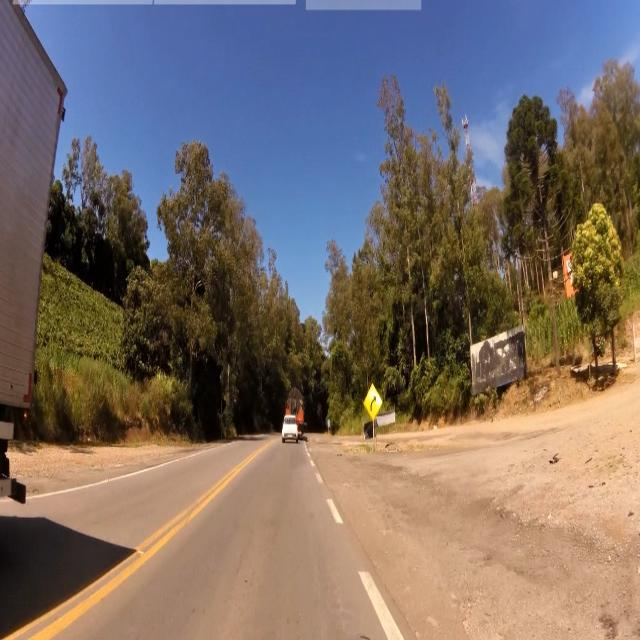A-2b: (362, 383, 383, 424)
